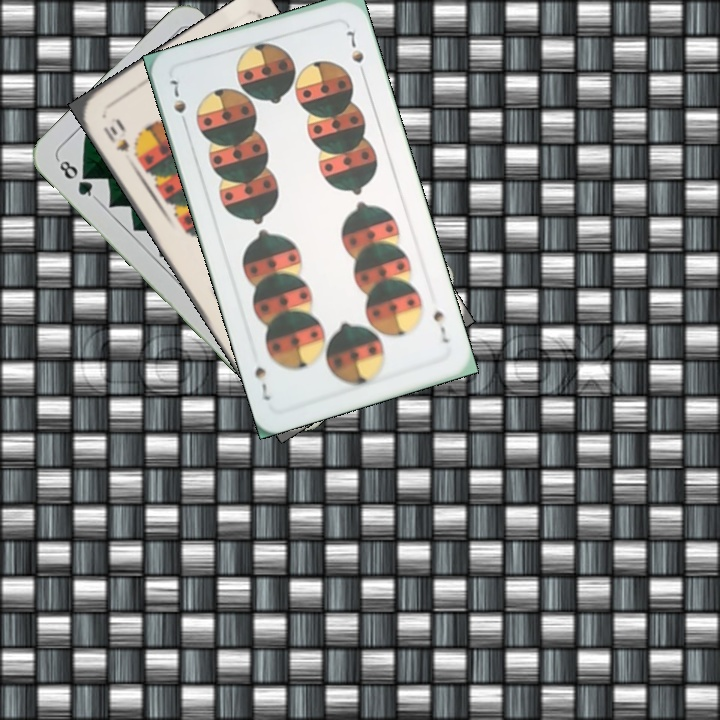G8: (53, 155, 99, 202)
S10: (99, 114, 132, 154)
S7: (165, 73, 190, 131), (429, 306, 451, 346)
